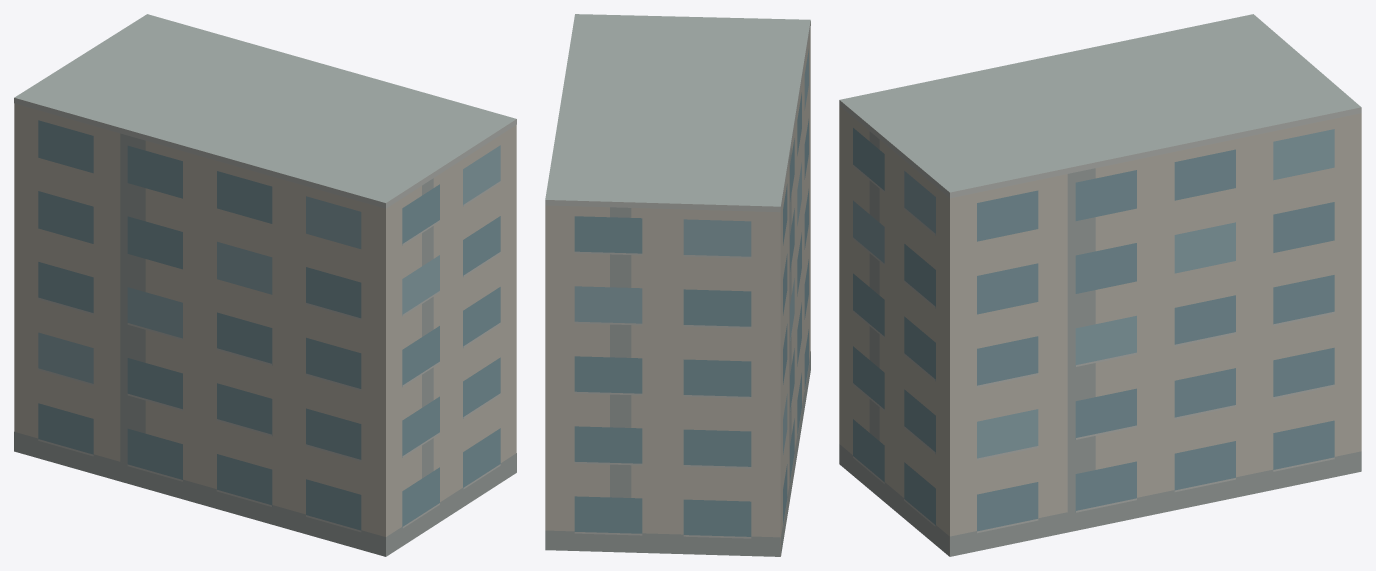
Rendered from survey-upis-32803641.glb.
3 views of the same model, side by side, from view 1: azimuth 30°, elevation 25°; view 2: azimuth 150°, elevation 25°; view 3: azimuth 270°, elevation 25° (orthographic). The views are drawn at different scales.
Parts seen in each view (by area): view 1: survey-upis-32803641.tmp; view 2: survey-upis-32803641.tmp; view 3: survey-upis-32803641.tmp.
Boxes of the visible parts, x1,y1,x2,y2 form: survey-upis-32803641.tmp: (14, 14, 516, 556); survey-upis-32803641.tmp: (545, 14, 810, 556); survey-upis-32803641.tmp: (839, 14, 1361, 556).
Size of the model in its own units: 16.14 by 15.35 by 19.95.
